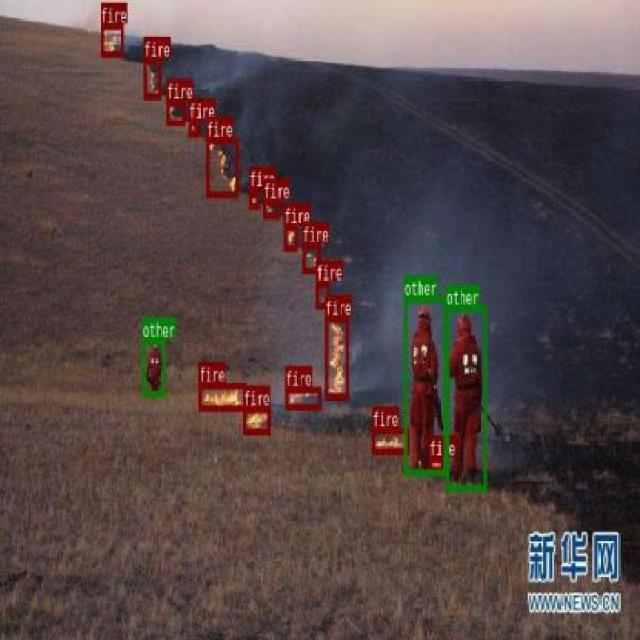Fire: (324, 314, 348, 400), (206, 137, 239, 196), (198, 382, 245, 410), (372, 427, 408, 453), (285, 386, 321, 408), (242, 405, 270, 433), (100, 22, 123, 56), (143, 58, 160, 98), (302, 242, 321, 272), (166, 98, 185, 125), (283, 222, 297, 250), (316, 280, 329, 308), (262, 198, 280, 218), (248, 186, 260, 208), (428, 456, 442, 472), (188, 118, 200, 136)
